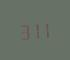one: (30, 20, 40, 39), (41, 19, 51, 38)
three: (18, 21, 28, 40)
